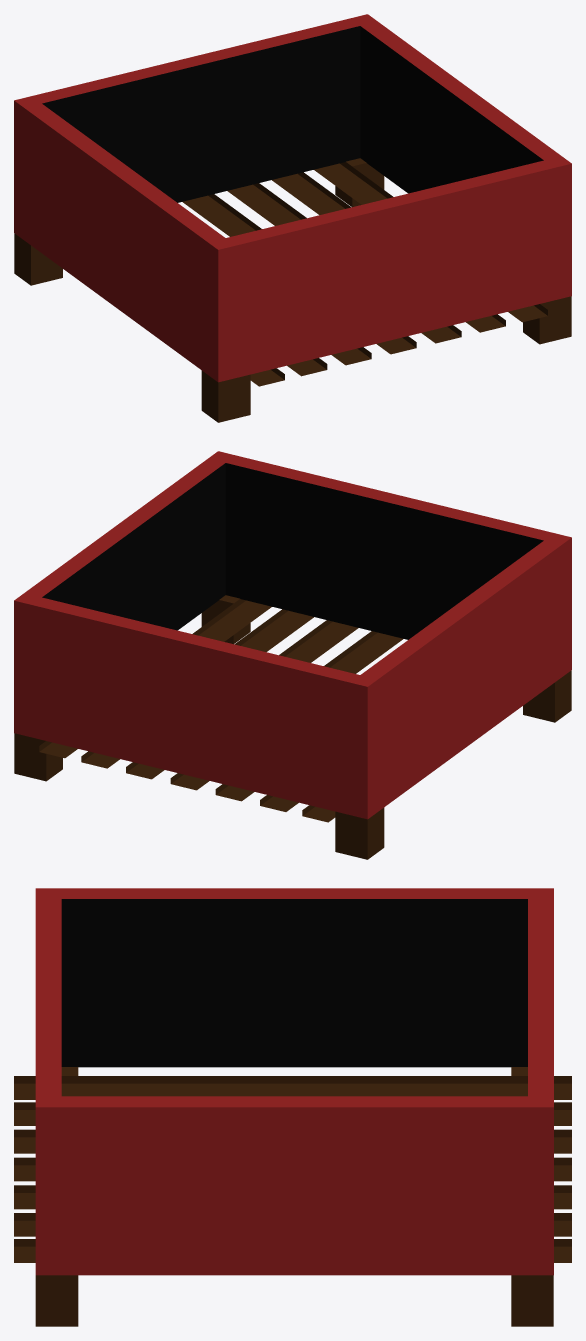
Rendered from spawn.fbx.
3 views of the same model, one above another, from view 1: azimuth 30°, elevation 25°; view 2: azimuth 150°, elevation 25°; view 3: azimuth 270°, elevation 25° (orthographic). The views are drawn at different scales.
Visible parts, largest first — view 1: main; view 2: main; view 3: main.
Part boxes in pixels (x1,y1,x2,y2): main: (14, 14, 571, 422); main: (14, 451, 571, 859); main: (14, 888, 571, 1326).
Size of the model in its own units: 110 by 51.21 by 118.
